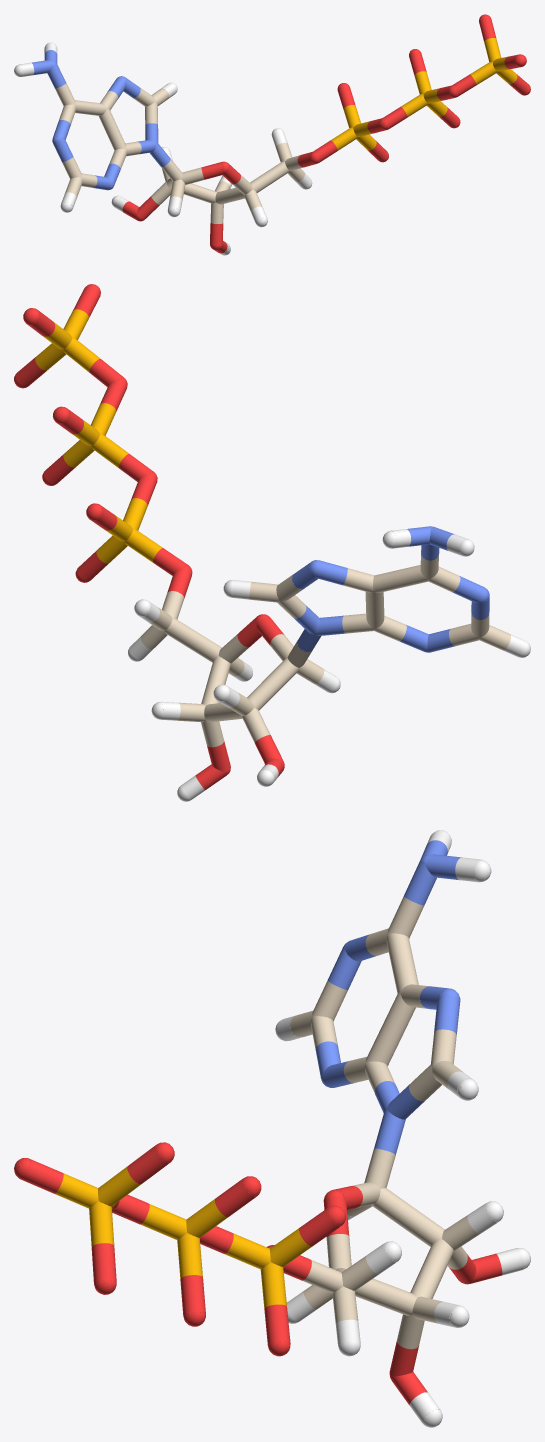
The model's file is o_BIOQ_ATP_v01.fbx.
3 views of the same model, one above another, from view 1: azimuth 30°, elevation 25°; view 2: azimuth 150°, elevation 25°; view 3: azimuth 270°, elevation 25° (orthographic). The views are drawn at different scales.
Visible parts, largest first — view 1: atp_geo; view 2: atp_geo; view 3: atp_geo.
Part boxes in pixels (x1=…): atp_geo: x1=14, y1=14, x2=530, y2=255; atp_geo: x1=14, y1=284, x2=530, y2=801; atp_geo: x1=14, y1=830, x2=530, y2=1427.
Bounding box in the file's own units: 70.82 × 40.2 × 42.48.
